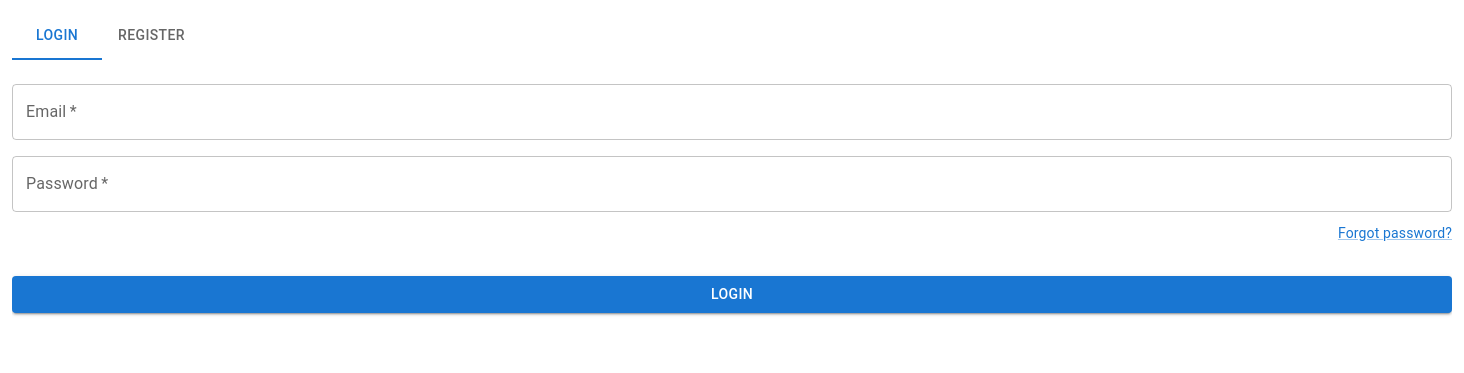
Test: LoginForm › should switch to register mode when register tab is clicked
Click the tab "Register" at (152, 36), box [102,12,201,60]
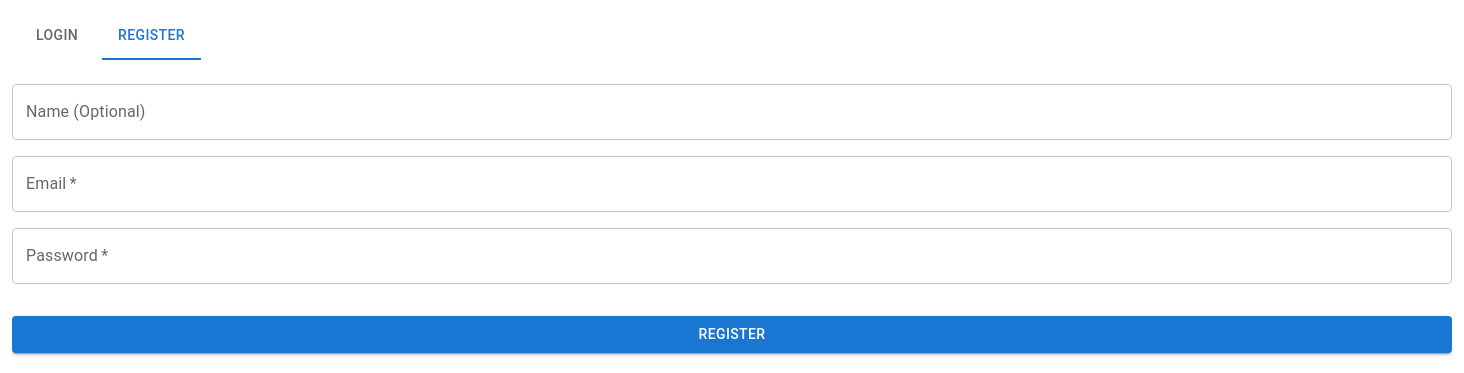
Expected: the password field labelled "Password *" is shown, [12,228,1452,284]
Expected: the field labelled "Name (Optional)" is shown, [12,84,1452,140]
Expected: the button "Register" is shown, [12,316,1452,352]
